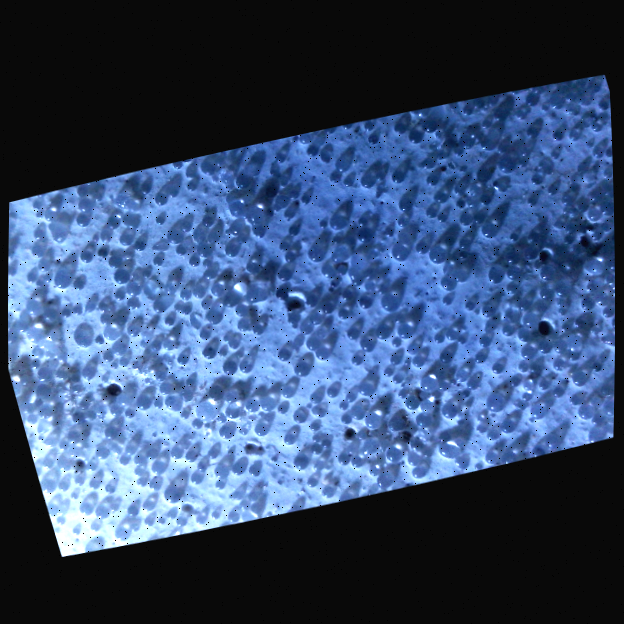GrassBeadSeg: (30, 169, 610, 516), (71, 151, 601, 524), (32, 123, 599, 420), (76, 124, 602, 399), (153, 133, 612, 409), (30, 152, 557, 390), (43, 208, 548, 448), (125, 263, 604, 513), (156, 141, 594, 404), (41, 226, 517, 468), (173, 95, 535, 409), (40, 214, 485, 458), (54, 122, 438, 381), (152, 198, 553, 441), (98, 107, 542, 324), (69, 198, 534, 402), (126, 216, 498, 463), (96, 248, 531, 458), (217, 206, 602, 435), (172, 140, 582, 352), (114, 101, 494, 325), (175, 221, 538, 448), (55, 207, 534, 377), (96, 238, 545, 419), (31, 97, 538, 257), (46, 269, 378, 506), (31, 184, 614, 317), (45, 204, 613, 340), (339, 133, 561, 458), (185, 168, 614, 335), (78, 250, 506, 412), (237, 236, 574, 436), (175, 181, 543, 364), (78, 362, 500, 515), (122, 216, 563, 361), (394, 130, 613, 416), (204, 196, 580, 359), (134, 342, 548, 490), (52, 157, 513, 289), (128, 194, 486, 363), (74, 137, 471, 289), (223, 179, 469, 419), (223, 244, 583, 406), (165, 230, 487, 405), (278, 228, 564, 414), (305, 146, 469, 469), (112, 269, 458, 420), (361, 123, 576, 362), (40, 233, 517, 340), (199, 124, 492, 287), (439, 101, 608, 382), (305, 126, 527, 334), (211, 364, 599, 479), (238, 136, 425, 370), (162, 150, 447, 295), (199, 220, 585, 327), (191, 287, 387, 489), (350, 149, 603, 299), (25, 267, 522, 343), (162, 338, 372, 503), (339, 289, 546, 454), (204, 180, 556, 276), (457, 213, 603, 443), (139, 183, 327, 358), (230, 245, 409, 426), (172, 149, 611, 222), (375, 135, 525, 342), (118, 232, 287, 412), (406, 131, 536, 359), (400, 165, 584, 322), (321, 132, 563, 249), (328, 215, 531, 354), (139, 191, 298, 365), (224, 192, 447, 308), (134, 351, 566, 409), (123, 234, 518, 297), (348, 150, 529, 286), (393, 123, 478, 384), (226, 101, 479, 188), (221, 361, 593, 419), (344, 297, 512, 424), (111, 271, 311, 377), (422, 244, 514, 467), (411, 371, 584, 478), (333, 118, 536, 206), (396, 174, 540, 291), (250, 231, 542, 288), (244, 259, 602, 304), (389, 172, 516, 294), (296, 368, 430, 483), (212, 309, 424, 380), (106, 235, 540, 269), (225, 294, 400, 373), (259, 396, 427, 475), (388, 354, 516, 455), (195, 245, 553, 281), (389, 223, 497, 339), (216, 407, 584, 440), (75, 216, 164, 347), (394, 323, 587, 383), (399, 335, 533, 418), (8, 211, 114, 312), (137, 300, 203, 460), (438, 269, 499, 442), (376, 290, 446, 438), (504, 268, 561, 449), (292, 423, 515, 469), (426, 177, 543, 264), (202, 435, 319, 522), (414, 380, 525, 469), (34, 194, 139, 286), (432, 191, 491, 348), (266, 148, 462, 194), (95, 447, 321, 485), (369, 123, 612, 157), (115, 376, 215, 450), (53, 466, 164, 529), (281, 386, 383, 453), (40, 298, 316, 322), (502, 251, 542, 412), (150, 425, 217, 519), (104, 382, 191, 454), (306, 176, 374, 263), (261, 424, 352, 488), (166, 283, 243, 358), (286, 313, 346, 409), (92, 242, 430, 259), (42, 433, 97, 533), (480, 304, 614, 345), (132, 448, 217, 511), (274, 153, 433, 186), (126, 325, 212, 386), (304, 146, 348, 263), (340, 238, 400, 322), (97, 450, 243, 484), (376, 451, 516, 486), (37, 400, 125, 455), (309, 336, 430, 376), (409, 391, 488, 452), (36, 365, 96, 444), (225, 399, 319, 449), (291, 264, 345, 350), (441, 269, 561, 305), (203, 424, 258, 500), (40, 461, 99, 531), (118, 344, 179, 410), (8, 307, 81, 362), (331, 410, 383, 487), (109, 493, 241, 523), (149, 316, 238, 359), (105, 373, 188, 419), (204, 309, 223, 489), (202, 158, 255, 219), (475, 378, 534, 432), (274, 155, 339, 203), (132, 447, 174, 519), (128, 477, 185, 530), (356, 338, 408, 396), (103, 244, 144, 315), (70, 361, 117, 422), (125, 298, 138, 516), (274, 288, 349, 324), (202, 236, 288, 267), (206, 159, 265, 203), (26, 302, 115, 331), (104, 480, 146, 540), (100, 235, 160, 277), (311, 433, 349, 497), (440, 249, 478, 313), (210, 171, 285, 203), (209, 262, 258, 310), (366, 135, 432, 170), (454, 153, 496, 207), (462, 101, 524, 137), (221, 174, 310, 199), (584, 283, 599, 425), (493, 97, 584, 120), (319, 352, 362, 400), (56, 445, 133, 471), (283, 212, 366, 236), (287, 218, 403, 235), (186, 385, 237, 423), (532, 301, 568, 353), (164, 254, 198, 309), (166, 306, 199, 362), (516, 362, 546, 423), (356, 411, 400, 452), (254, 396, 292, 443), (236, 203, 280, 243), (350, 407, 431, 428), (26, 352, 63, 397), (92, 217, 131, 259), (55, 505, 108, 535), (21, 378, 48, 435), (396, 389, 469, 410), (244, 240, 290, 273), (319, 265, 347, 319), (590, 301, 614, 363), (590, 235, 603, 342), (257, 324, 295, 360), (289, 406, 324, 444), (79, 375, 106, 421), (500, 271, 528, 310), (528, 282, 569, 308), (494, 306, 528, 336), (530, 107, 576, 128), (224, 166, 237, 235), (378, 228, 392, 290), (383, 442, 422, 464), (587, 274, 614, 305), (188, 234, 214, 266), (590, 388, 613, 423), (486, 99, 499, 160), (584, 168, 612, 195), (94, 337, 124, 361), (42, 229, 63, 263), (152, 260, 165, 312), (516, 102, 558, 118), (44, 433, 77, 449), (232, 216, 257, 235), (277, 240, 297, 262), (8, 263, 41, 276), (454, 188, 480, 204), (81, 216, 116, 227), (568, 284, 591, 299), (600, 340, 606, 394), (214, 464, 228, 485), (255, 194, 273, 210), (237, 322, 262, 333), (606, 297, 612, 342), (418, 376, 435, 391), (520, 313, 534, 330), (565, 228, 596, 235), (359, 174, 373, 189), (50, 229, 65, 243), (565, 93, 574, 115), (234, 308, 248, 321), (390, 218, 406, 228), (305, 338, 319, 349), (172, 304, 189, 313), (481, 307, 496, 317), (464, 302, 476, 313), (165, 187, 177, 197), (387, 421, 400, 430), (110, 326, 118, 340), (403, 400, 413, 411), (520, 332, 532, 341), (132, 240, 143, 249), (314, 347, 325, 356), (581, 300, 592, 309), (452, 189, 465, 196), (199, 163, 205, 175), (26, 300, 38, 306), (586, 212, 593, 222), (330, 237, 340, 244), (468, 189, 478, 196), (550, 100, 557, 108), (569, 110, 577, 116), (463, 186, 478, 189), (37, 265, 43, 272), (587, 207, 597, 211), (598, 209, 601, 220), (525, 128, 529, 136), (45, 264, 49, 270), (527, 136, 534, 138), (535, 130, 537, 136)
